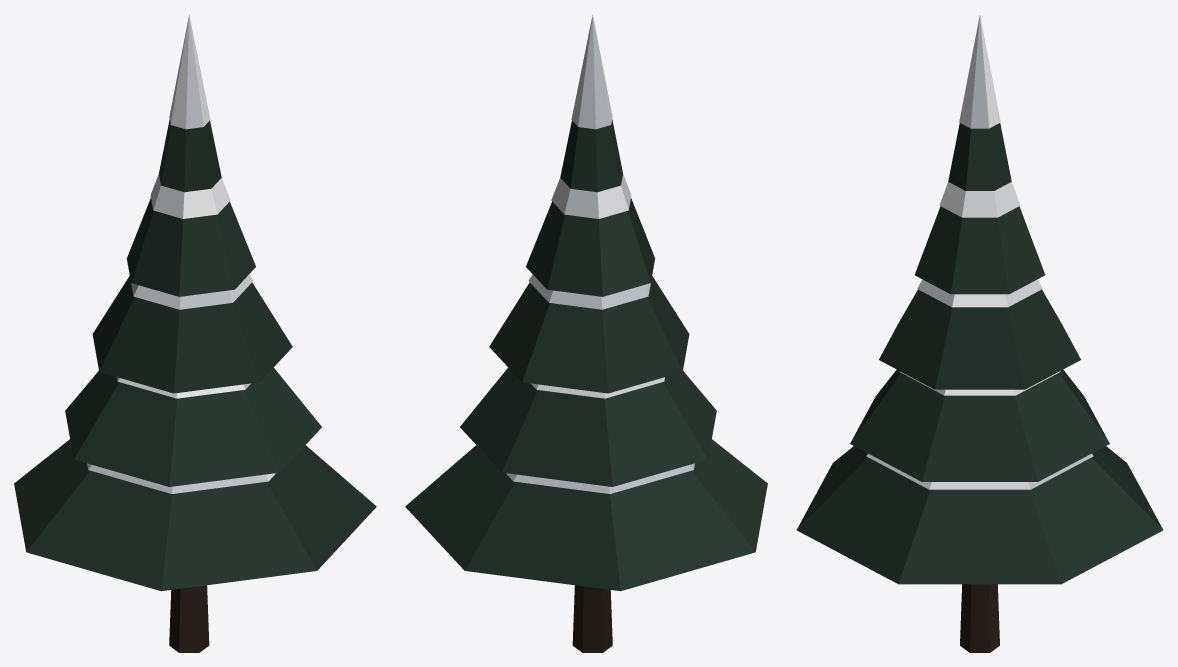
The model's file is snow_pine.glb.
The picture shows the model from 3 angles, left to right: view 1: azimuth 30°, elevation 25°; view 2: azimuth 150°, elevation 25°; view 3: azimuth 270°, elevation 25°; orthographic projection.
Parts seen in each view (by area): view 1: snow_pine; view 2: snow_pine; view 3: snow_pine.
Boxes of the visible parts, left/top/right/bottom form: snow_pine: left=14, top=14, right=376, bottom=652; snow_pine: left=405, top=14, right=767, bottom=652; snow_pine: left=797, top=15, right=1162, bottom=652.
Size of the model in its own units: 4.63 by 9.02 by 4.75.
1 material, 1 textured.
